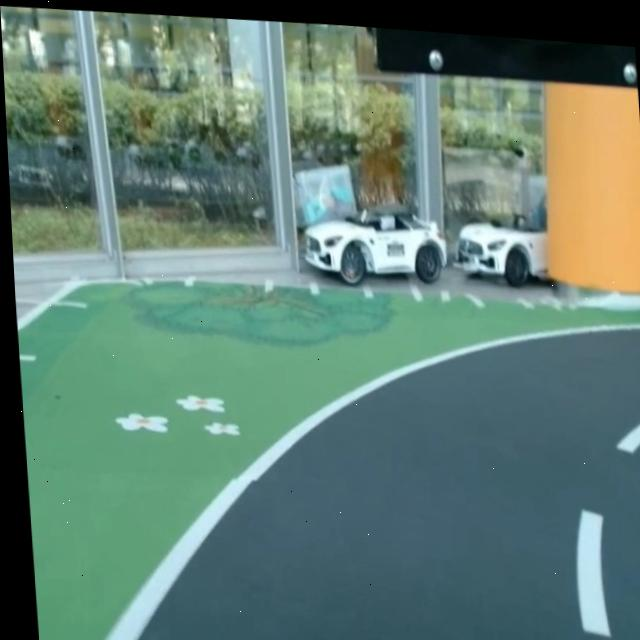traffic-light: (358, 27, 638, 102)
